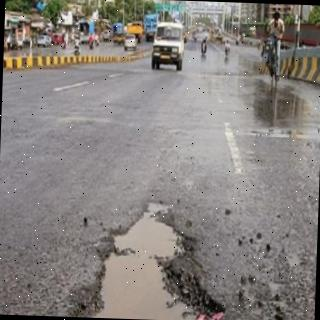pothole: (69, 218, 224, 320)
